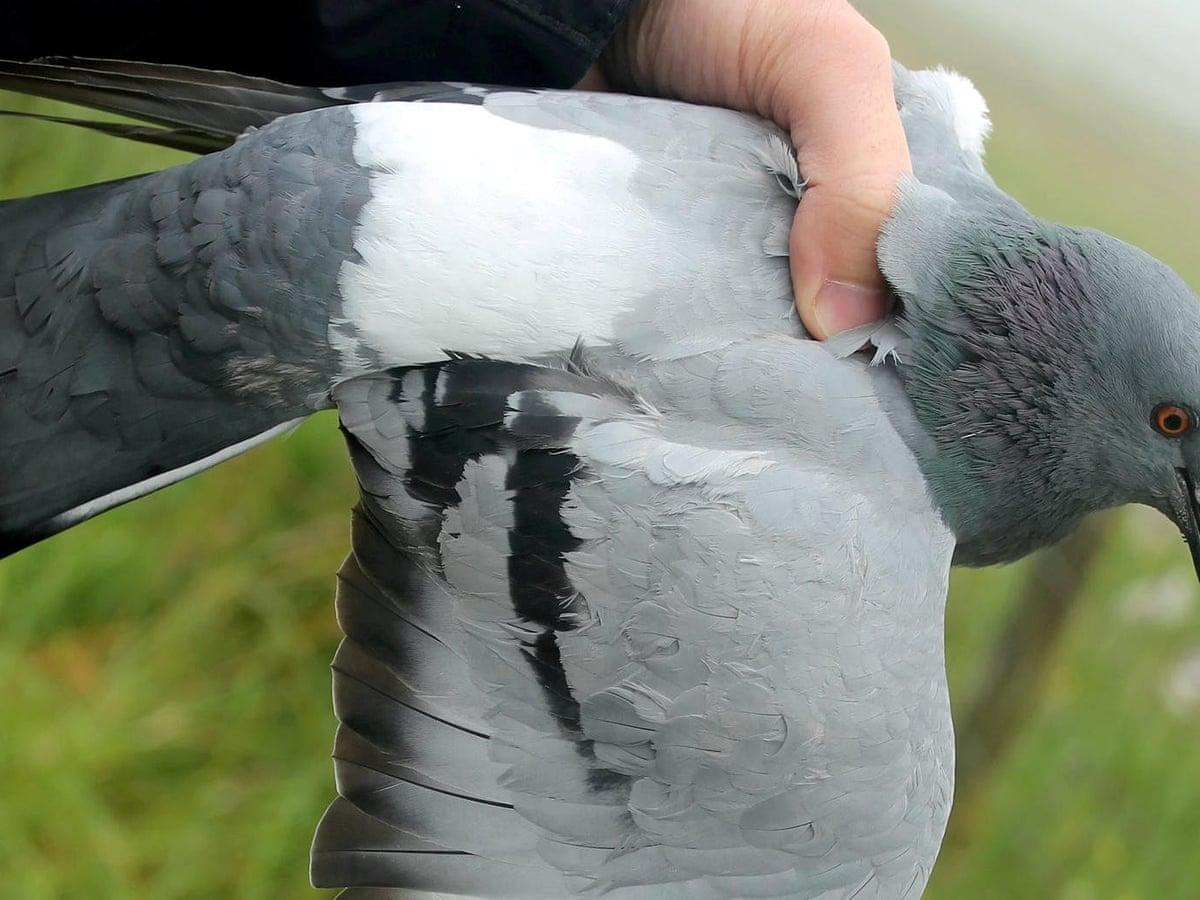Flying Rat: (6, 91, 1200, 900)
